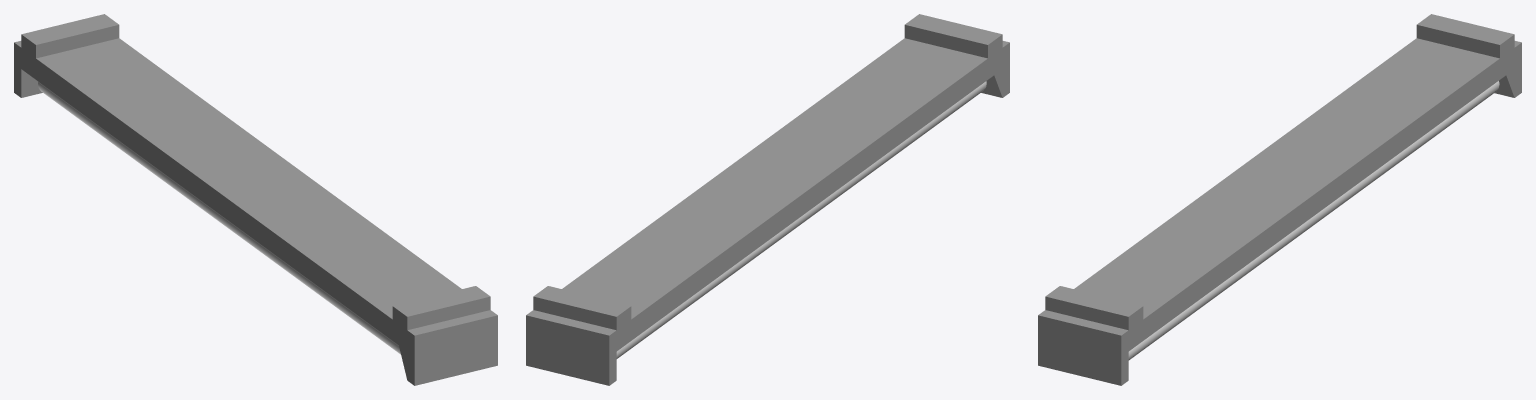
File: Lamp.fbx
3 renders of one model, left to right at view 1: azimuth 30°, elevation 25°; view 2: azimuth 150°, elevation 25°; view 3: azimuth 330°, elevation 25°, orthographic.
Parts seen in each view (by area): view 1: Cube; view 2: Cube; view 3: Cube.
Part boxes in pixels (x1,y1,x2,y2): Cube: [14, 14, 497, 385]; Cube: [526, 14, 1009, 385]; Cube: [1038, 14, 1521, 385].
Size of the model in its own units: 40.62 by 29.71 by 338.
